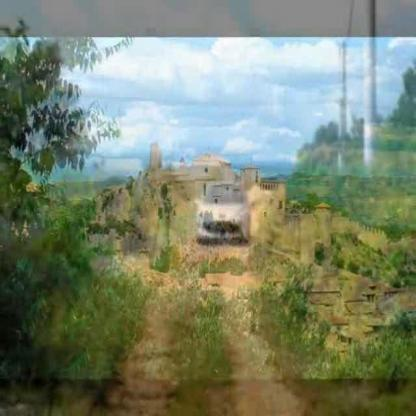other: (237, 182, 298, 242)
